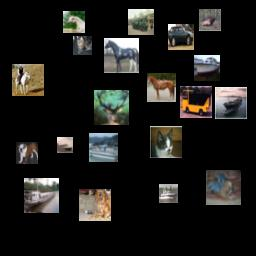automobile: (168, 24, 194, 50)
cat: (150, 126, 182, 158), (73, 36, 92, 55)
deer: (94, 90, 129, 125), (199, 9, 221, 31)
dog: (206, 170, 241, 205), (79, 189, 111, 221), (16, 142, 38, 164)
ship: (24, 178, 59, 213), (215, 87, 247, 119), (89, 133, 118, 162), (194, 55, 220, 81), (159, 184, 178, 203), (57, 137, 73, 153)
truck: (180, 86, 212, 118), (128, 9, 154, 35)
